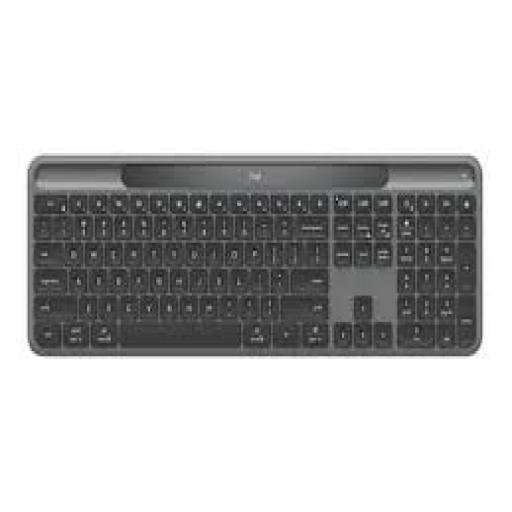KEYBOARD-2: (28, 156, 480, 354)
